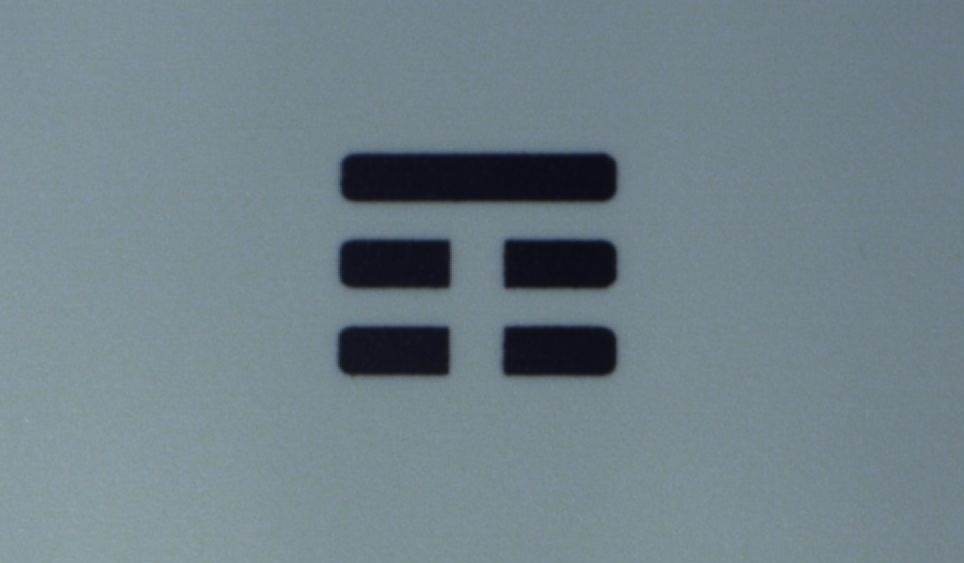BV_F6600PTIM: (316, 144, 629, 382)
